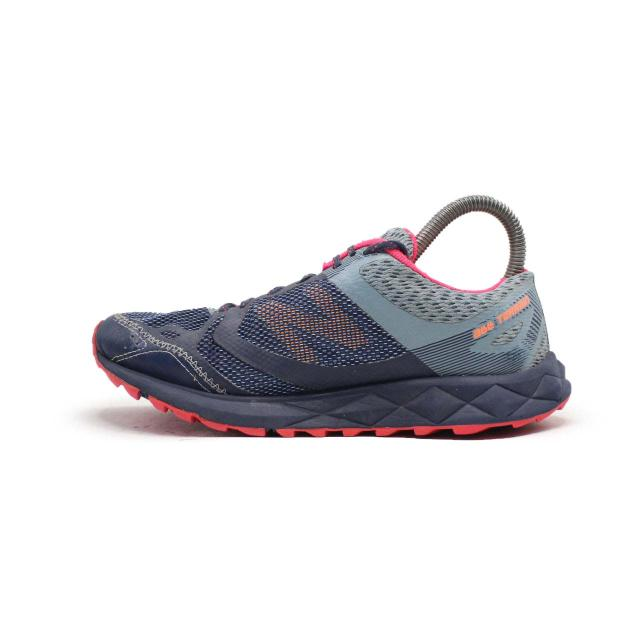heel: (479, 270, 550, 374)
midsole: (92, 319, 567, 442)
uppersole: (94, 227, 482, 395)
